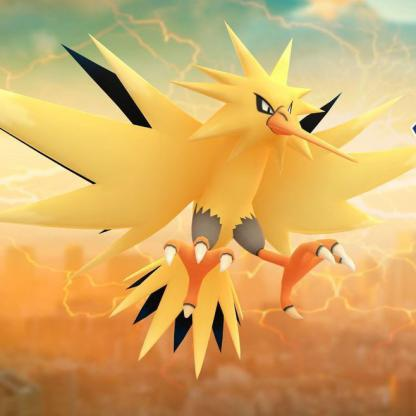Zapdos: (1, 22, 416, 384)
